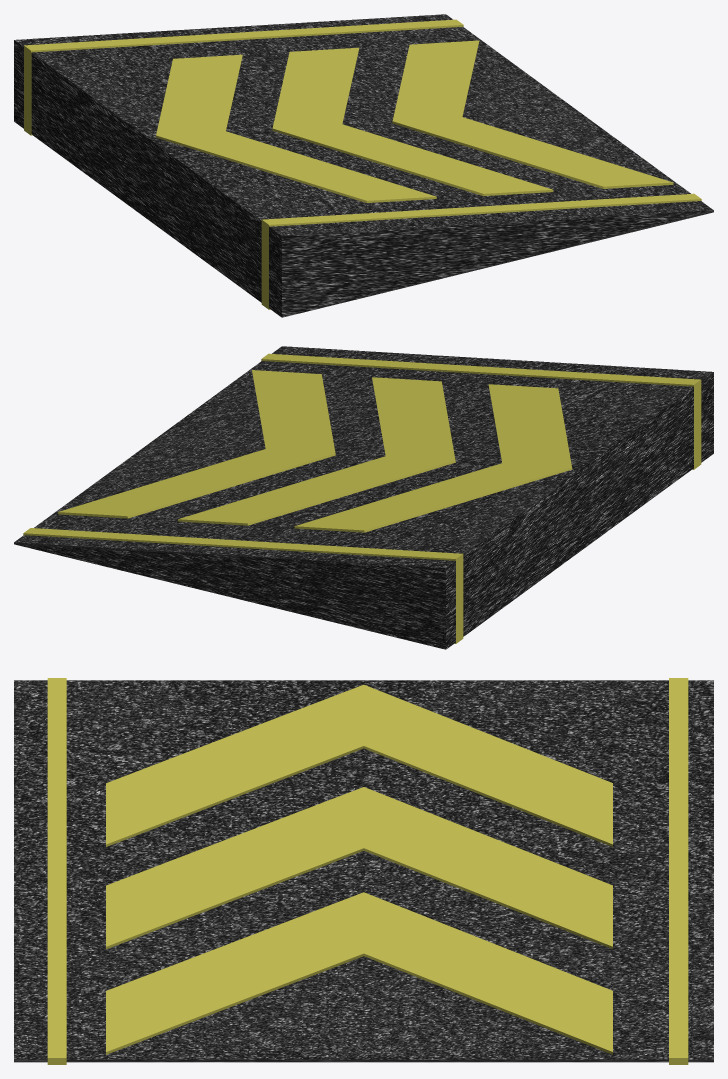
File: ramp.fbx
The picture shows the model from 3 angles, top to bottom: view 1: azimuth 30°, elevation 25°; view 2: azimuth 150°, elevation 25°; view 3: azimuth 270°, elevation 25°; orthographic projection. The views are drawn at different scales.
Parts seen in each view (by area): view 1: polySurface23; view 2: polySurface23; view 3: polySurface23.
Part boxes in pixels (left/top/right/bottom): polySurface23: left=14, top=14, right=713, bottom=317; polySurface23: left=14, top=346, right=713, bottom=649; polySurface23: left=14, top=678, right=713, bottom=1064.
Bounding box in the file's own units: 9.32 × 1.75 × 10.
2 materials, 1 textured.
